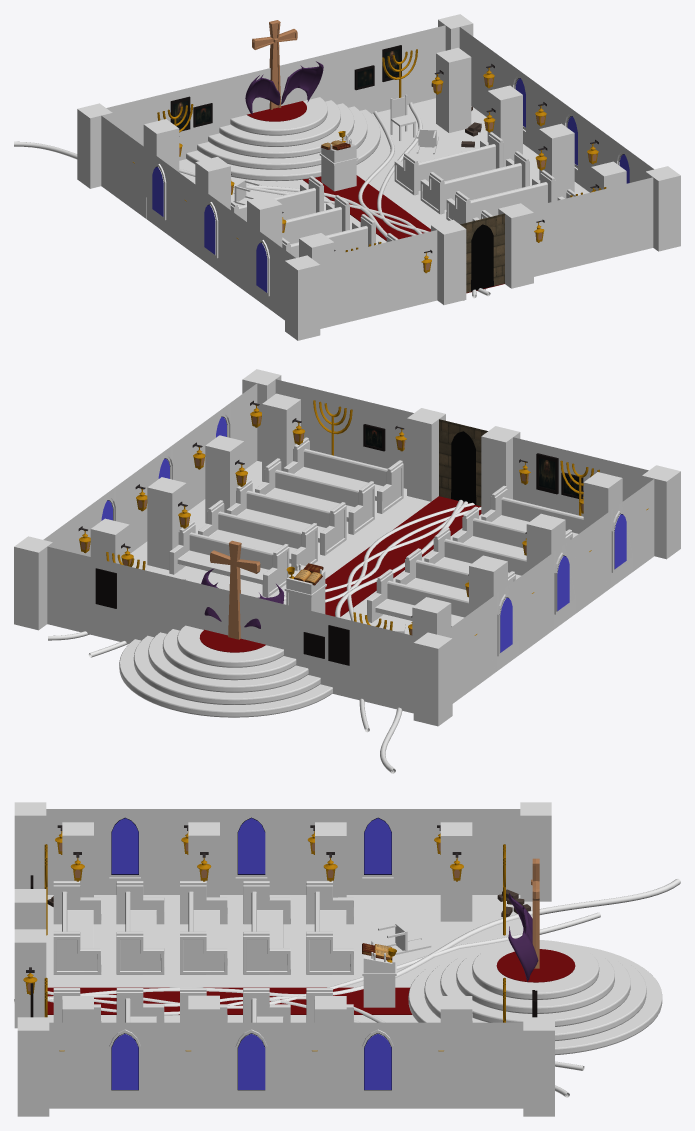
The model's file is 遊戲處理.fbx.
3 renders of one model, top to bottom at view 1: azimuth 30°, elevation 25°; view 2: azimuth 150°, elevation 25°; view 3: azimuth 270°, elevation 25°, orthographic. The views are drawn at different scales.
Visible parts, largest first — view 1: 圓形階梯, 牆壁.012, 牆壁.013, 牆壁.009, 椅子.008, 椅子.009, 柱子.013, 門, 柱子.011, 牆壁.010, 牆壁.011, 椅子.002 (+56 smaller); view 2: 圓形階梯, 地毯, 椅子.008, 椅子.004, 椅子.002, 椅子.006, 椅子.009, 柱子, 牆壁.007, 門, 牆壁.017, 牆壁.004 (+56 smaller); view 3: 圓形階梯, 花窗.004, 牆壁.001, 牆壁.002, 牆壁.003, 花窗, 花窗.003, 花窗.002, 花窗.001, 花窗.005, 牆壁, 椅子.005 (+58 smaller).
Part boxes in pixels (x1,y1,x2,y2): 圓形階梯: (186, 97, 380, 181); 牆壁.012: (572, 186, 617, 267); 牆壁.013: (347, 241, 392, 322); 牆壁.009: (392, 230, 437, 311); 椅子.008: (394, 132, 503, 195); 椅子.009: (420, 151, 529, 214); 柱子.013: (285, 255, 320, 340); 門: (460, 213, 504, 292); 柱子.011: (436, 47, 471, 132); 牆壁.010: (528, 197, 572, 276); 牆壁.011: (617, 177, 653, 256); 椅子.002: (446, 170, 555, 224); 圓形階梯: (119, 625, 332, 717); 地毯: (325, 496, 481, 616); 椅子.008: (169, 521, 289, 597); 椅子.004: (255, 458, 374, 534); 椅子.002: (226, 479, 346, 555); 椅子.006: (283, 437, 403, 513); 椅子.009: (198, 500, 317, 571); 柱子: (413, 632, 452, 726); 牆壁.007: (334, 616, 383, 705); 門: (439, 419, 487, 506); 牆壁.017: (87, 556, 136, 643); 牆壁.004: (47, 546, 86, 632); 圓形階梯: (408, 940, 662, 1055); 花窗.004: (346, 1022, 409, 1108); 牆壁.001: (409, 1022, 472, 1108); 牆壁.002: (283, 1022, 346, 1108); 牆壁.003: (156, 1022, 219, 1108); 花窗: (93, 1022, 156, 1108); 花窗.003: (220, 1022, 283, 1108); 花窗.002: (346, 809, 409, 894); 花窗.001: (220, 809, 283, 894); 花窗.005: (93, 809, 156, 894); 牆壁: (472, 1022, 523, 1108); 椅子.005: (116, 881, 164, 974).
Size of the model in its own units: 1765 by 502 by 2111.
